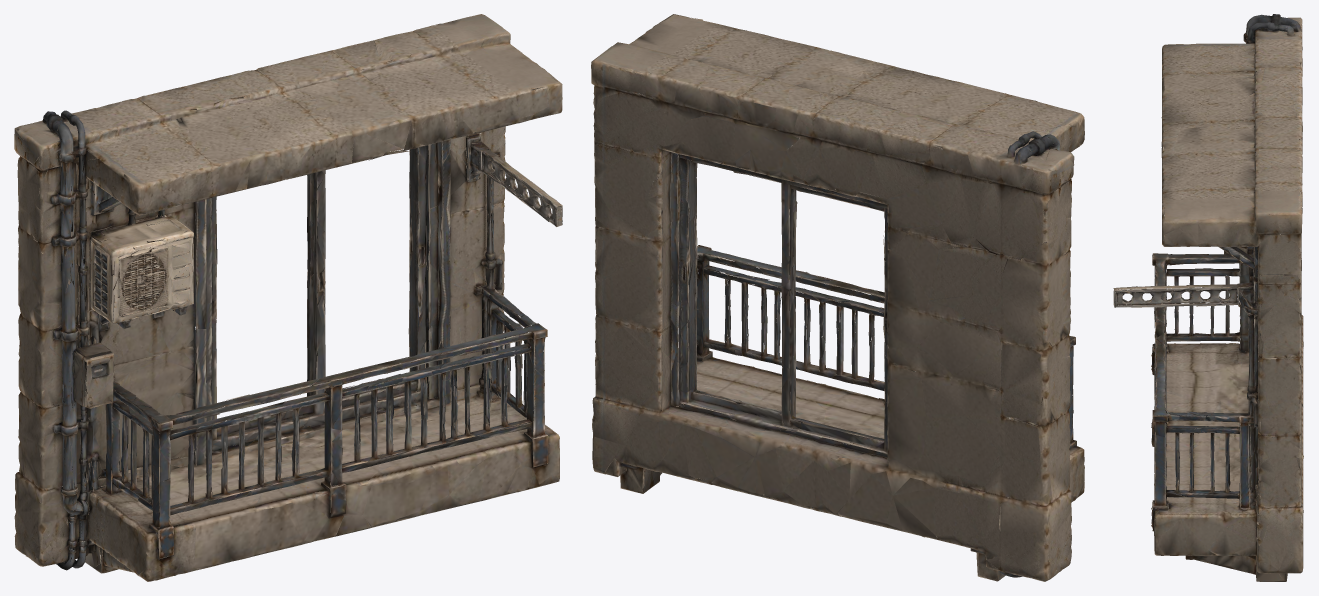
File: balcony.glb
3 views of the same model, side by side, from view 1: azimuth 30°, elevation 25°; view 2: azimuth 150°, elevation 25°; view 3: azimuth 270°, elevation 25° (orthographic). The views are drawn at different scales.
Parts seen in each view (by area): view 1: Mesh_0; view 2: Mesh_0; view 3: Mesh_0.
Part boxes in pixels (box(x1,y1,x2,y2)): Mesh_0: box(14, 14, 562, 581); Mesh_0: box(591, 14, 1084, 581); Mesh_0: box(1113, 14, 1303, 581).
Bounding box in the file's own units: 3 × 2.79 × 1.23.
Materials: 1 (1 with a texture image).
